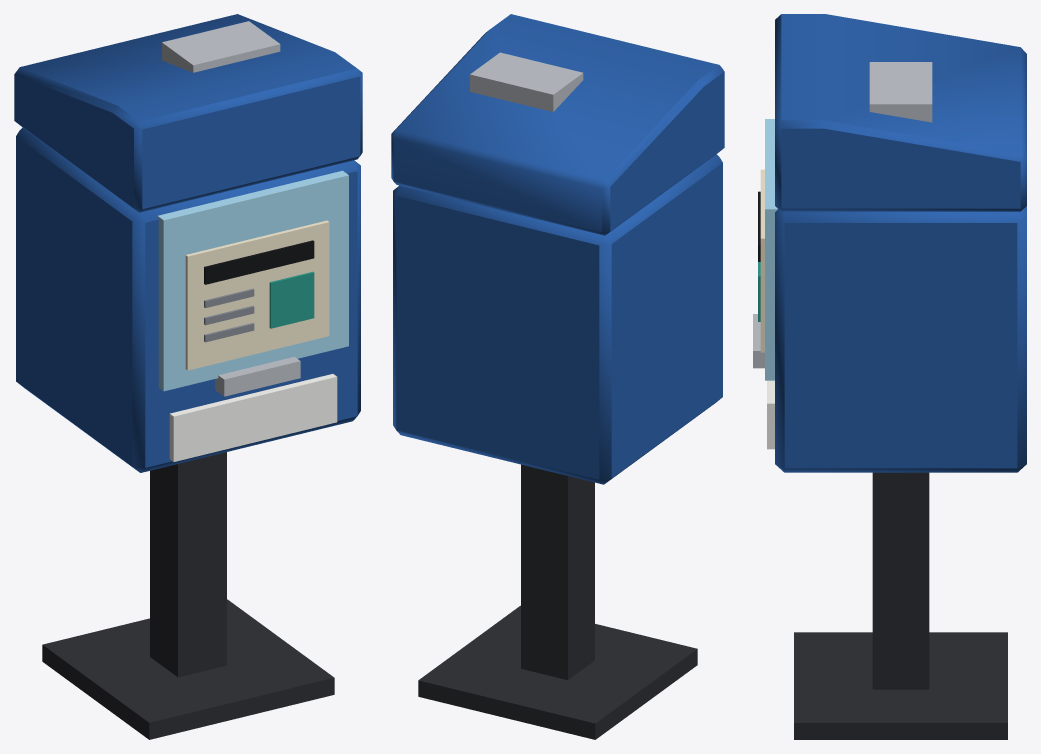
The model's file is newspaper_box.glb.
3 renders of one model, left to right at view 1: azimuth 30°, elevation 25°; view 2: azimuth 150°, elevation 25°; view 3: azimuth 270°, elevation 25°, orthographic. The views are drawn at different scales.
Visible parts, largest first — view 1: body; view 2: body; view 3: body.
Part boxes in pixels (x1,y1,x2,y2): body: (14,14,362,739); body: (391,14,724,739); body: (753,14,1026,739).
Bounding box in the file's own units: 42 × 110 × 43.5.
